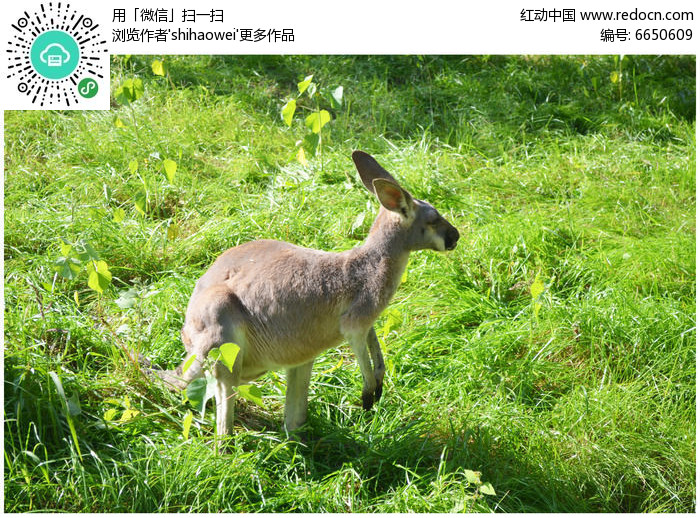kangaroo: (148, 146, 462, 445)
